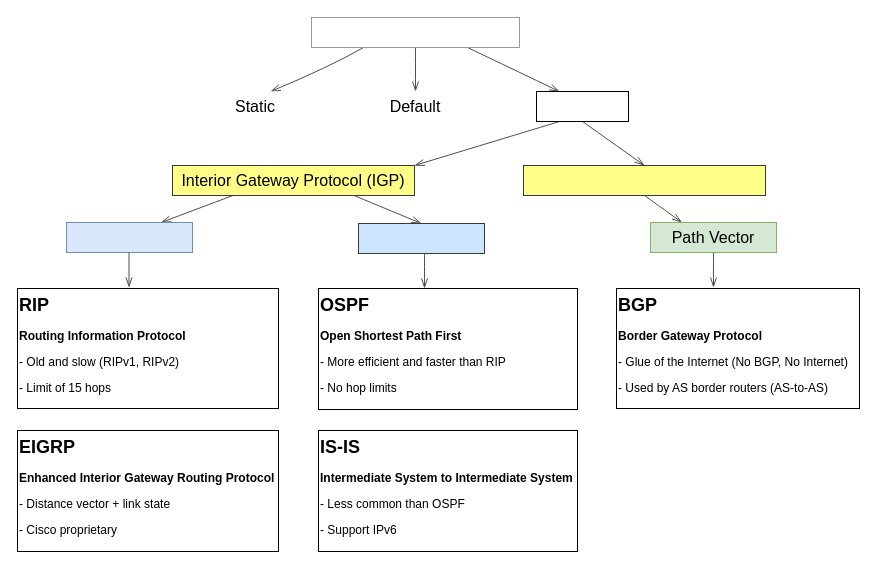
Image size: 877x572. Some labels were removed from this diagram. Each missing label, with the box of its shape:
Distance Vector: (66, 222, 192, 252)
Dynamic: (536, 90, 628, 122)
Exterior Gateway Protocol (IGP): (522, 164, 766, 196)
Link State: (358, 222, 484, 254)
Routing Protocols: (310, 16, 520, 48)
